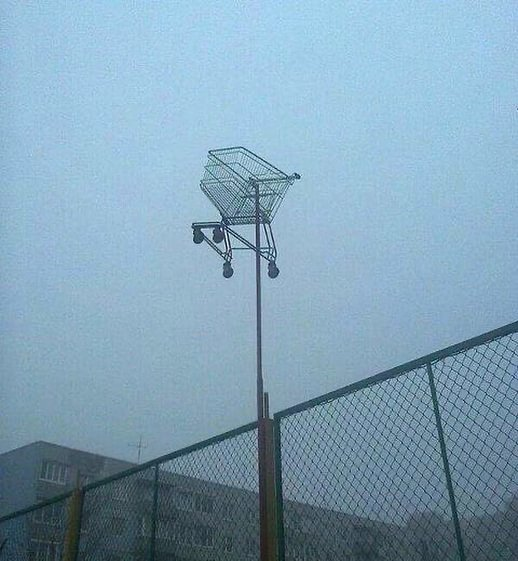building: (7, 450, 450, 561)
shopping cart: (190, 145, 302, 282)
sky: (8, 1, 518, 428)
